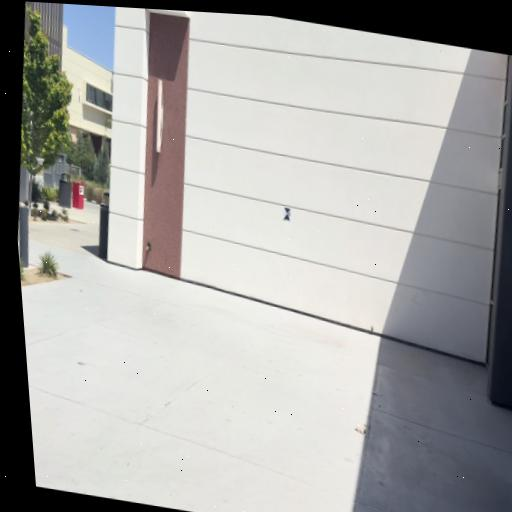target0: (282, 207, 292, 222)
